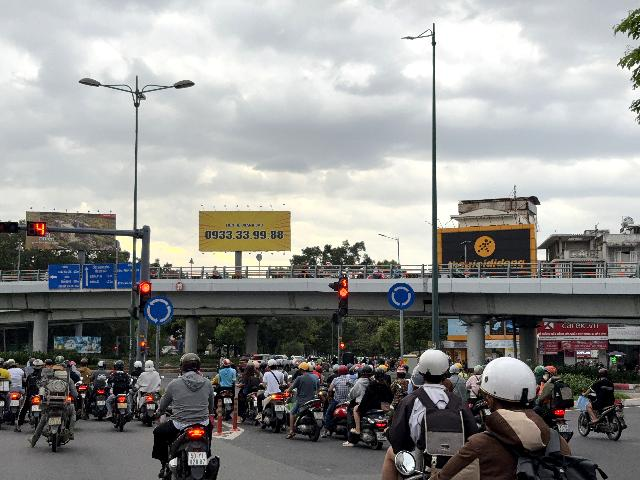noi-giao-nhau-chay-theo-vong-xuyen: (144, 295, 175, 326), (387, 283, 415, 310)
